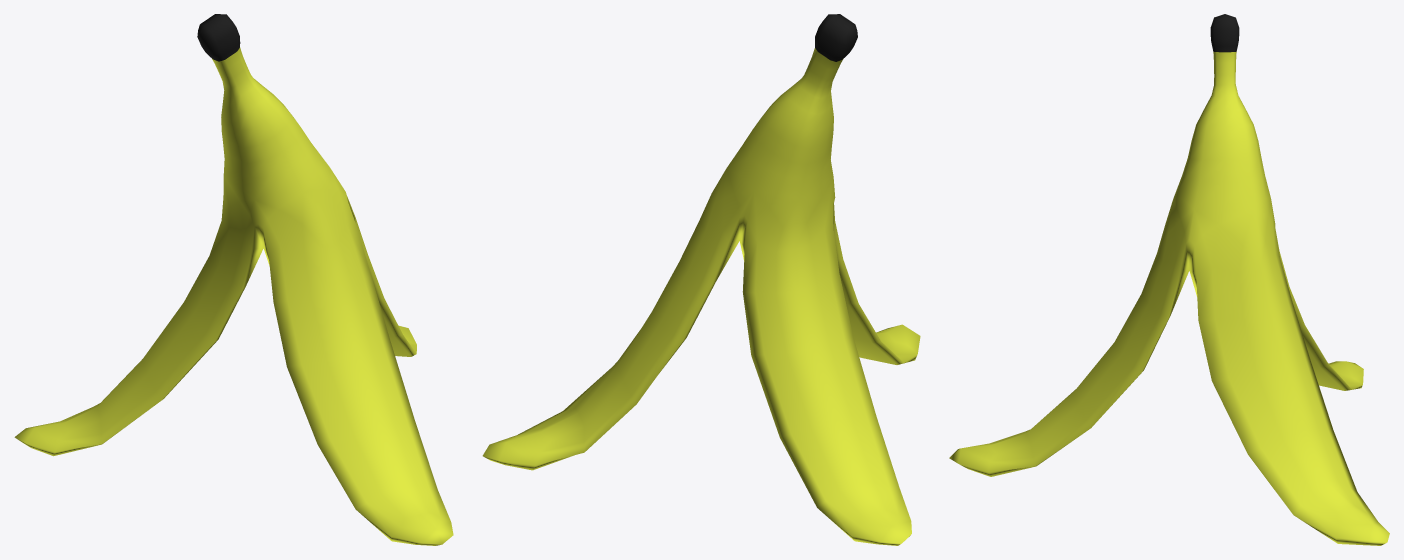
Rendered from bananaPeel.fbx.
The picture shows the model from 3 angles, left to right: view 1: azimuth 30°, elevation 25°; view 2: azimuth 150°, elevation 25°; view 3: azimuth 270°, elevation 25°; orthographic projection. The views are drawn at different scales.
Visible parts, largest first — view 1: bananaPeel_GEO; view 2: bananaPeel_GEO; view 3: bananaPeel_GEO.
Boxes of the visible parts, x1=… form: bananaPeel_GEO: x1=14, y1=14, x2=453, y2=545; bananaPeel_GEO: x1=482, y1=14, x2=920, y2=545; bananaPeel_GEO: x1=949, y1=14, x2=1389, y2=545.
Size of the model in its own units: 13.35 by 14.21 by 13.61.
